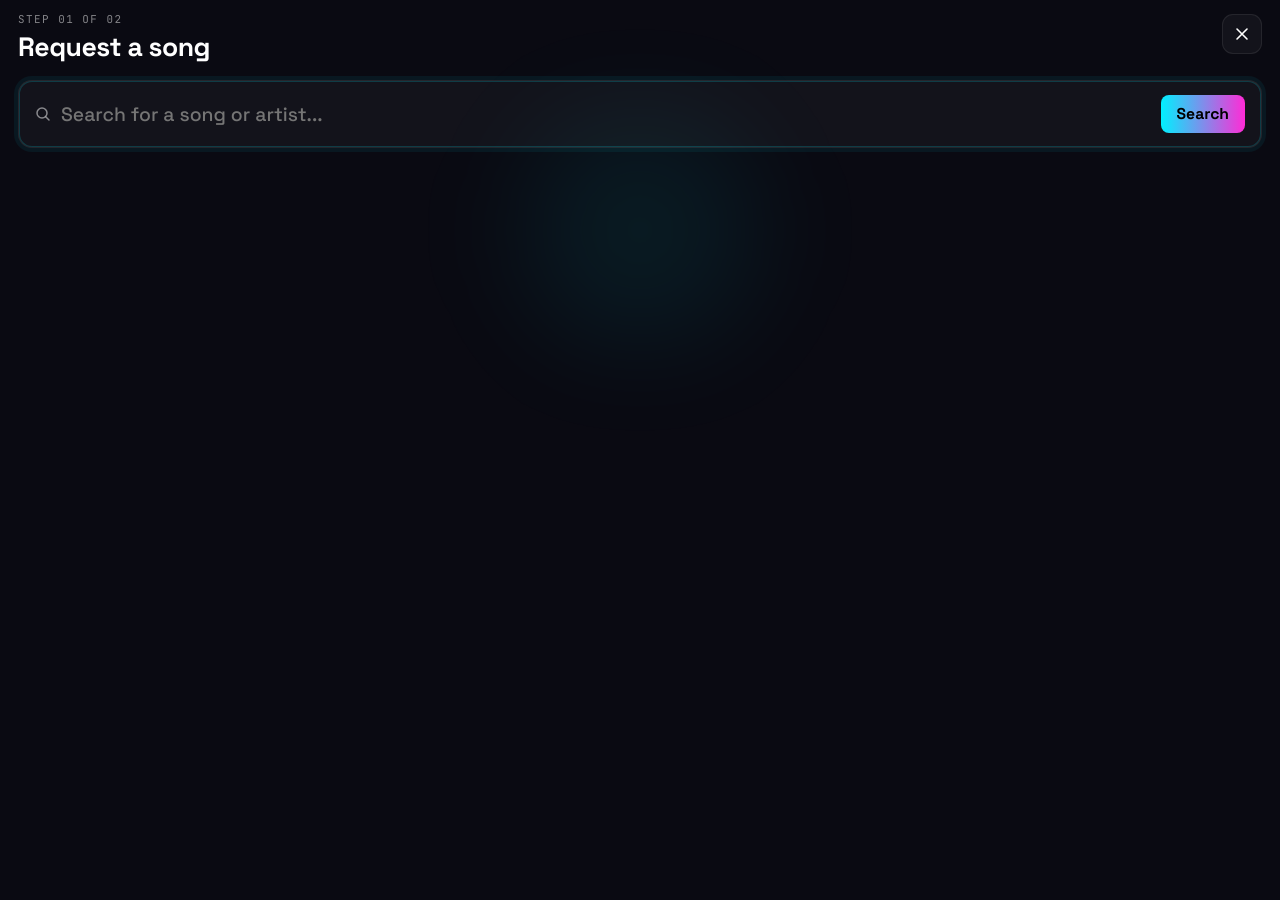
Test: JoinEventPage — search and submission flow › shows search results after successful search
Type "Found" into the field with placeholder "Search for a song or artist...". click: (606, 114)
box: [61,102,1151,126]
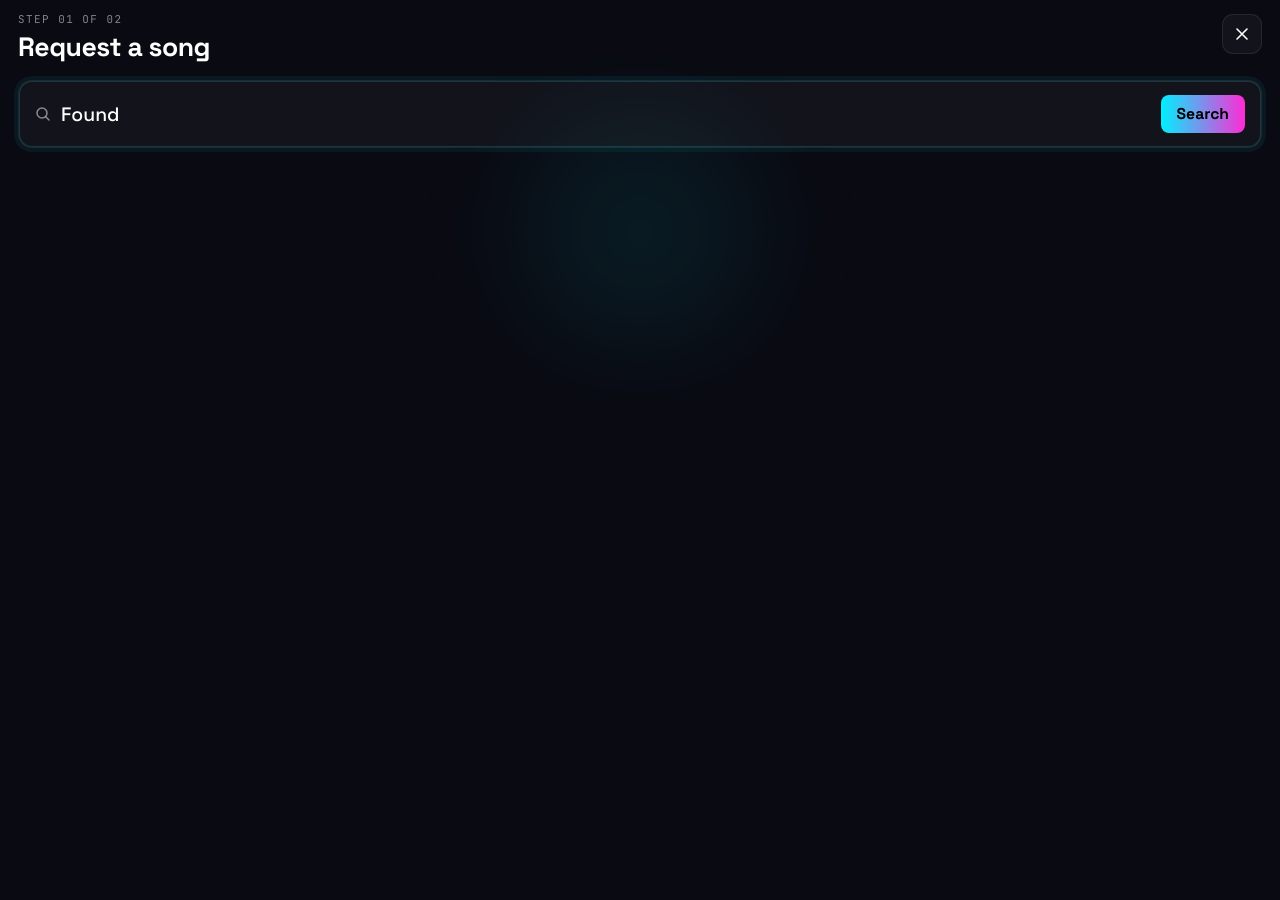
Submit the form from the button "Search", box [1161,95,1245,133]
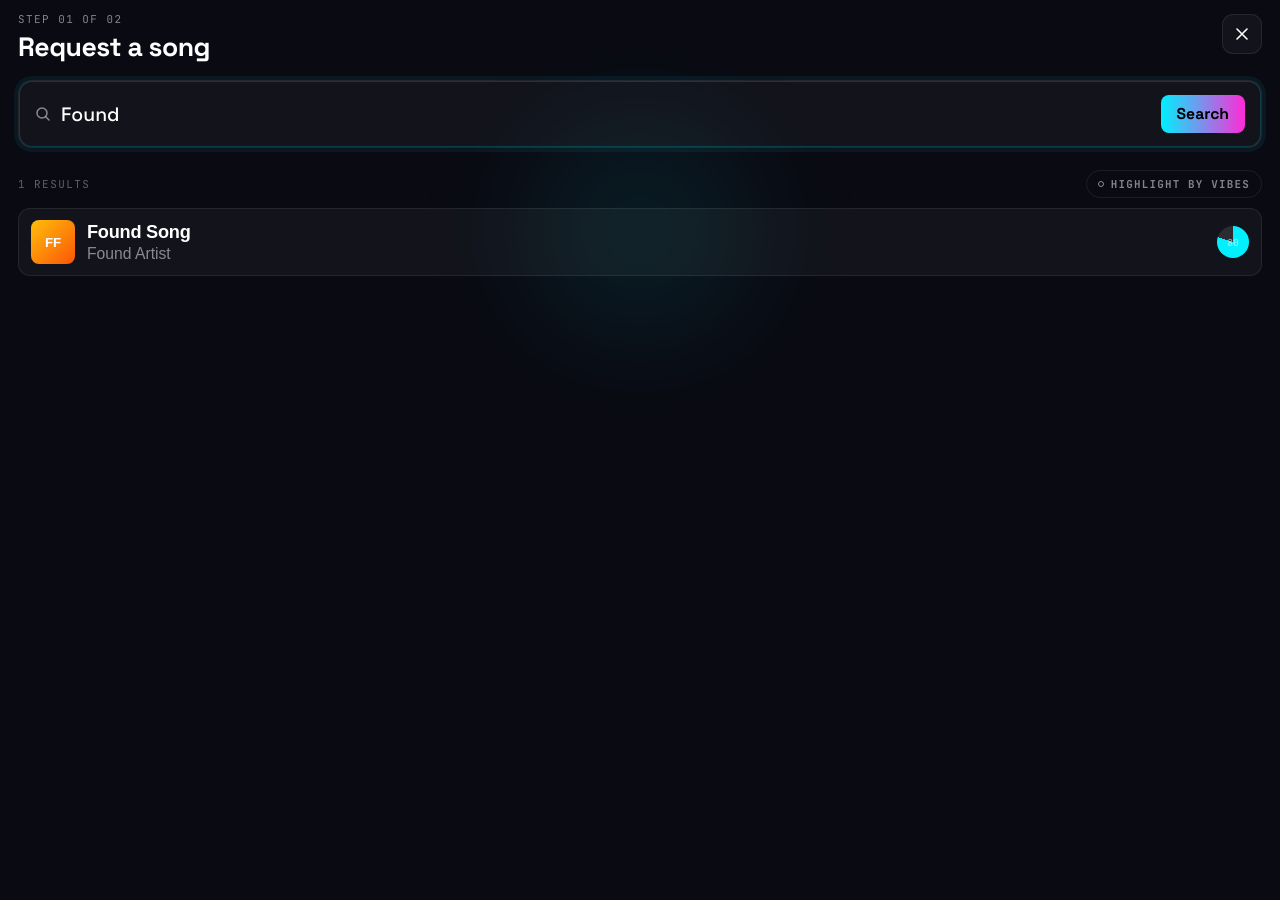
expect the text "Found Song" is shown: met, box [87,222,191,242]
